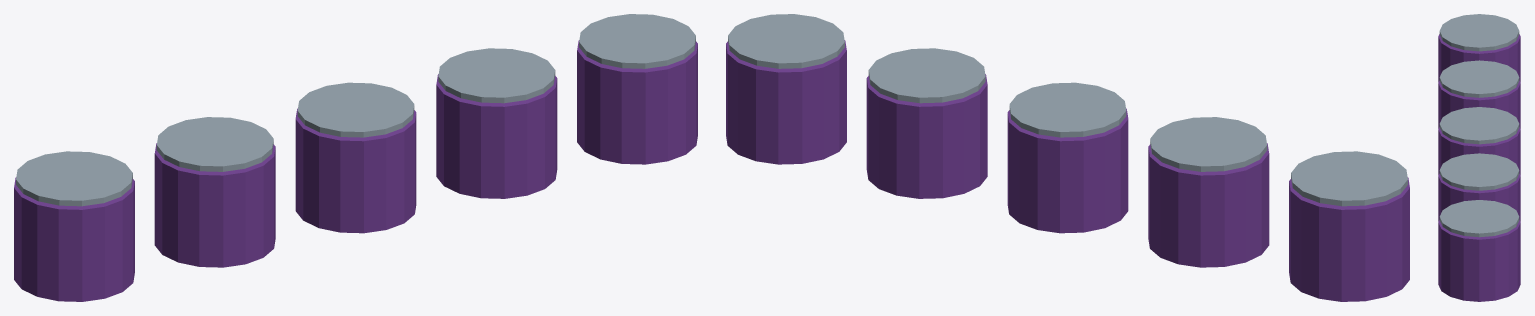
The model's file is 144_L110_OutputCapacitorBank.fbx.
3 views of the same model, side by side, from view 1: azimuth 30°, elevation 25°; view 2: azimuth 150°, elevation 25°; view 3: azimuth 270°, elevation 25° (orthographic). The views are drawn at different scales.
Visible parts, largest first — view 1: L110_OutputCapacitorBank_PURPLE, L110_OutputCapacitorBank_ALUMINUM; view 2: L110_OutputCapacitorBank_PURPLE, L110_OutputCapacitorBank_ALUMINUM; view 3: L110_OutputCapacitorBank_ALUMINUM, L110_OutputCapacitorBank_PURPLE.
Part boxes in pixels (bbox=[...]): L110_OutputCapacitorBank_PURPLE: bbox=[14, 40, 697, 301]; L110_OutputCapacitorBank_ALUMINUM: bbox=[16, 14, 695, 206]; L110_OutputCapacitorBank_PURPLE: bbox=[726, 40, 1409, 301]; L110_OutputCapacitorBank_ALUMINUM: bbox=[728, 14, 1407, 206]; L110_OutputCapacitorBank_ALUMINUM: bbox=[1439, 14, 1519, 237]; L110_OutputCapacitorBank_PURPLE: bbox=[1438, 34, 1520, 301].
Bounding box in the file's own units: 38 × 6 × 5.45.
